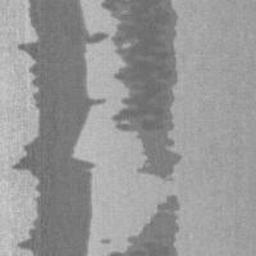Water spot: (10, 0, 183, 256), (105, 192, 182, 256)
